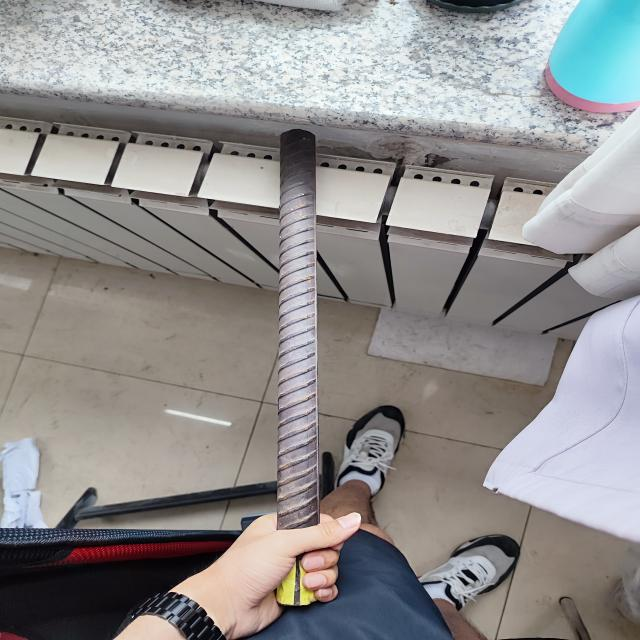ribbed bar: (272, 125, 326, 611)
